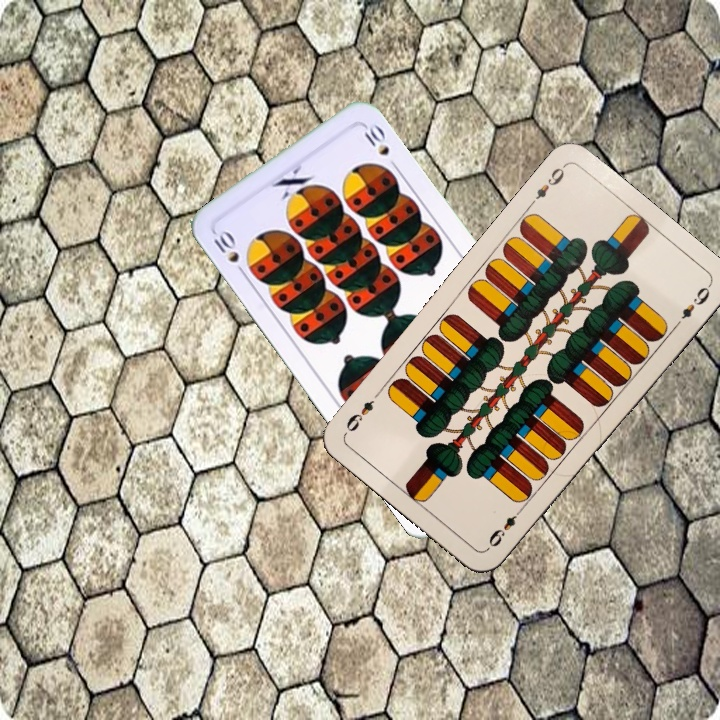E9: (483, 503, 527, 552), (524, 161, 568, 210)
S10: (209, 225, 249, 280)
